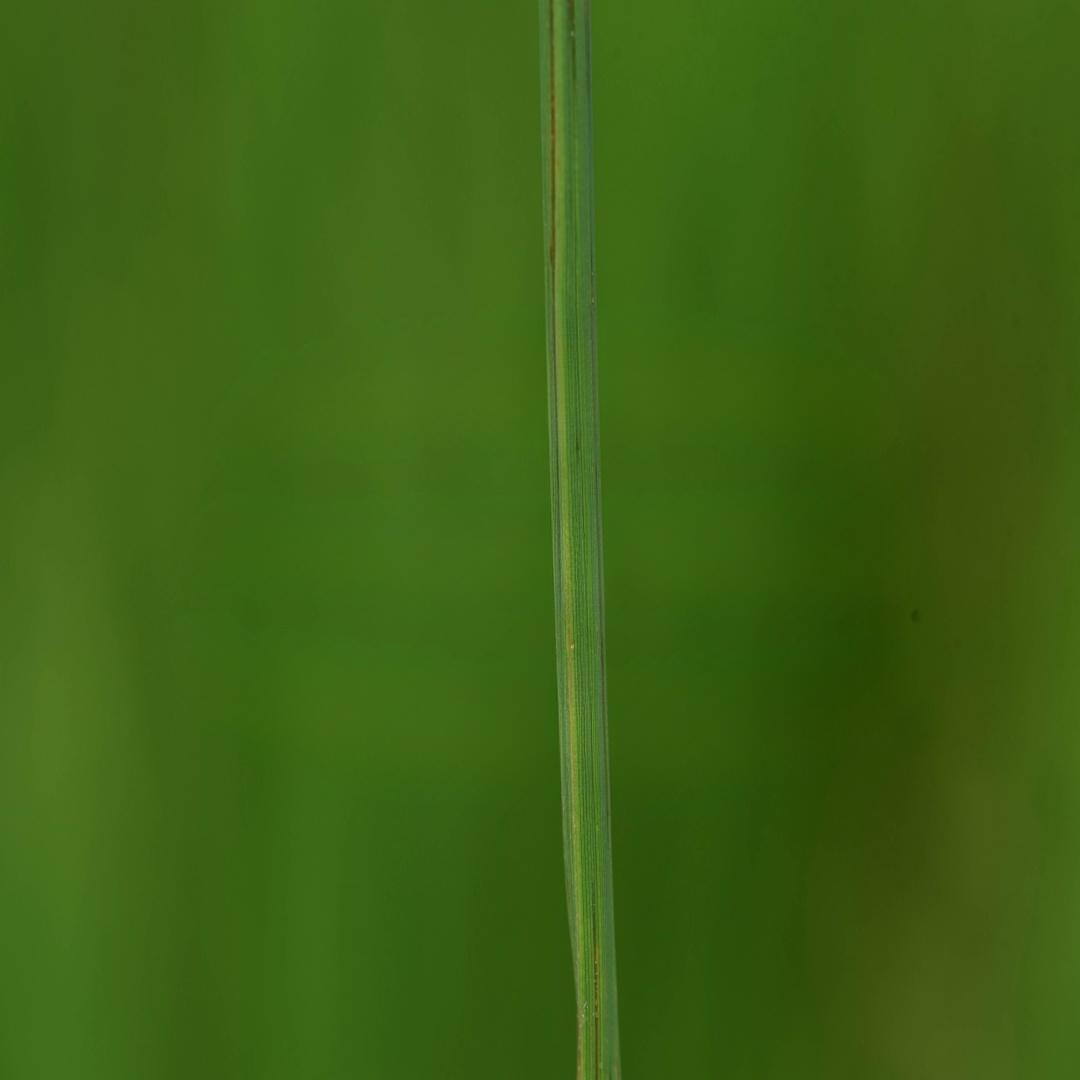BLS: (547, 0, 555, 311), (593, 914, 601, 1079), (565, 0, 575, 110), (584, 0, 589, 129), (590, 233, 595, 304)
